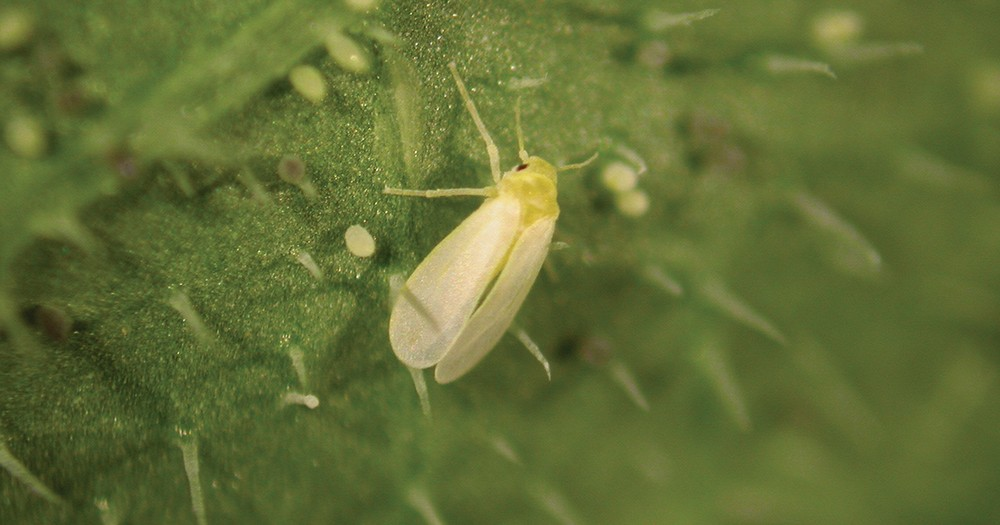Mosca Blanca: (380, 61, 603, 390)
